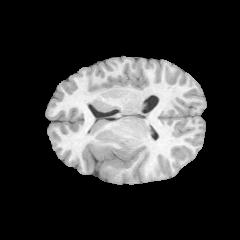glioma: (89, 140, 130, 174)
